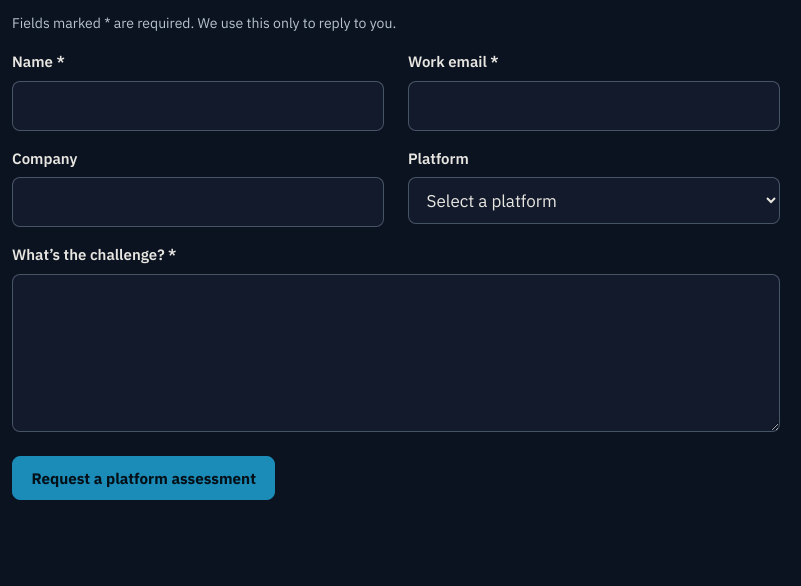
Test: Contact form › POSTs JSON to the configured endpoint and shows success
Type "Dana Ruiz" into the field labelled "Name *" at [198, 106], box [12, 81, 384, 131]
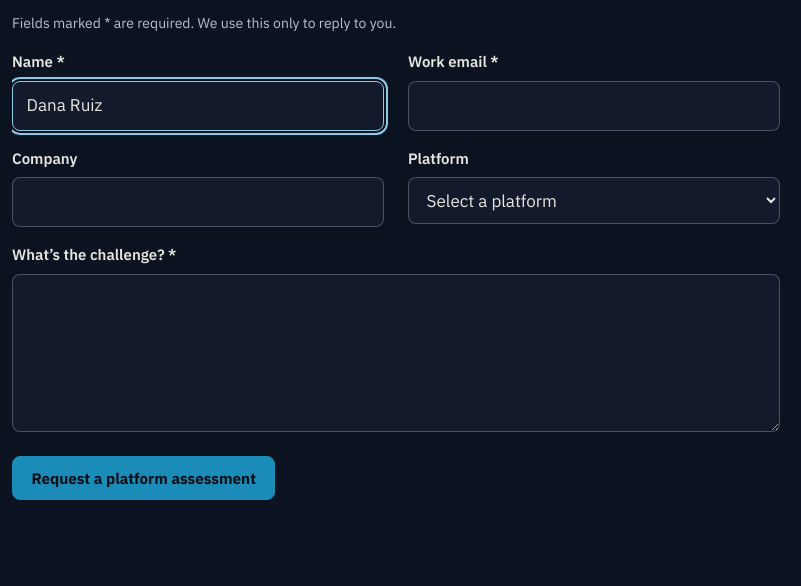
Type "dana@example.com" into the field labelled "Work email *" at [594, 106], box [408, 81, 780, 131]
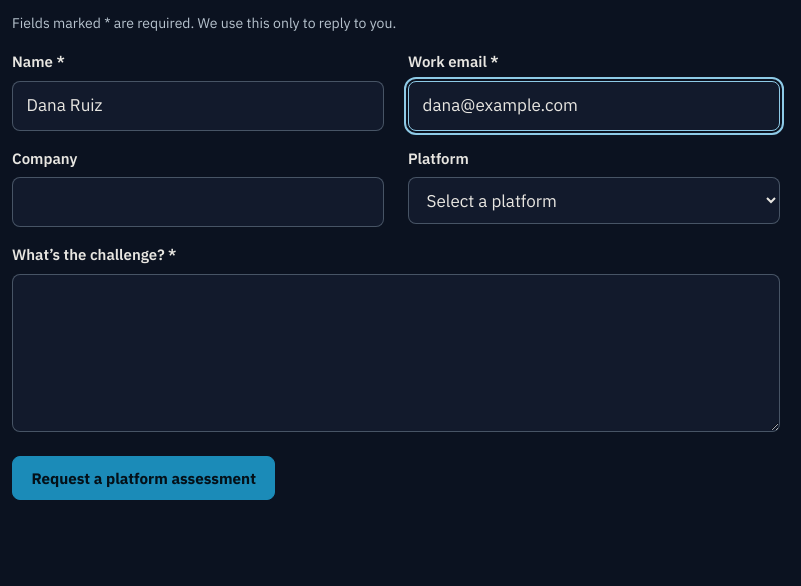
Type "Acme Health" into the field labelled "Company" at [198, 202], box [12, 177, 384, 227]
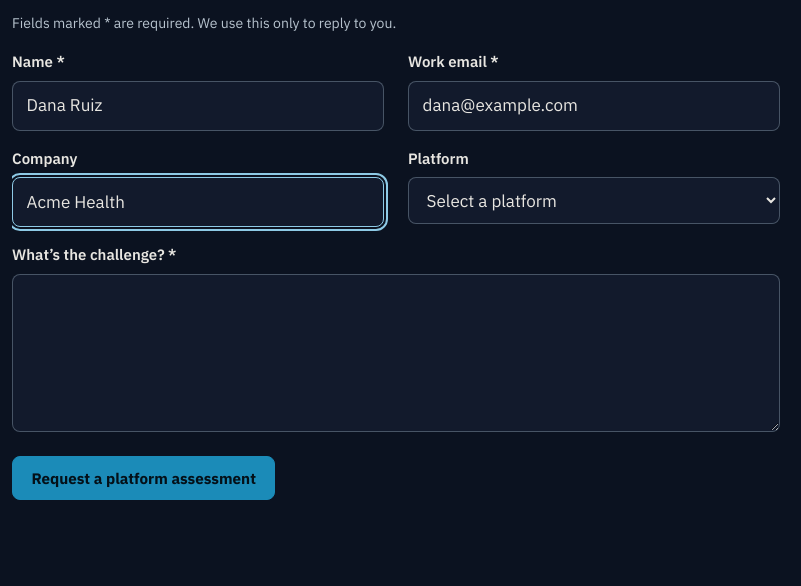
Select "Amazon Connect" in the dropdown labelled "Platform" at [594, 200], box [408, 177, 780, 224]
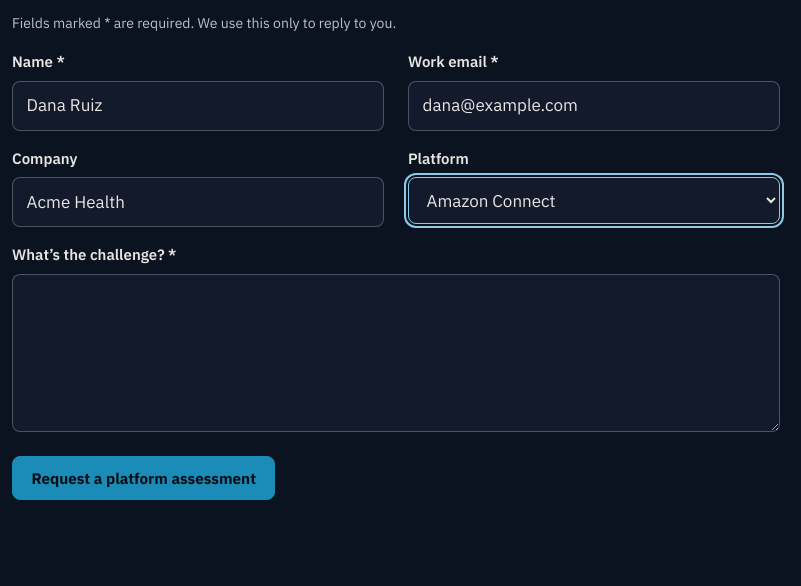
Type "Cutover in March & IVR rework" into the text box labelled "What’s the challenge? *" at [396, 353], box [12, 274, 780, 432]
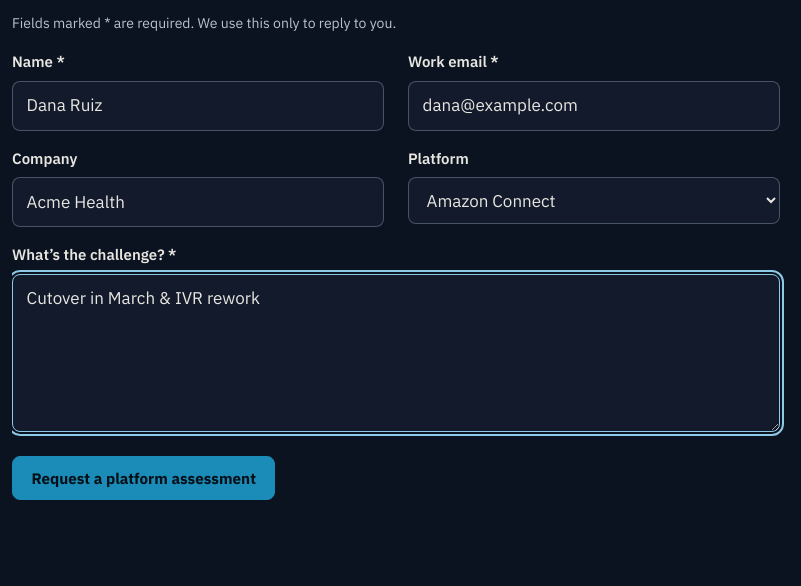
Click the button "Request a platform assessment" at [144, 478], box [12, 456, 275, 500]
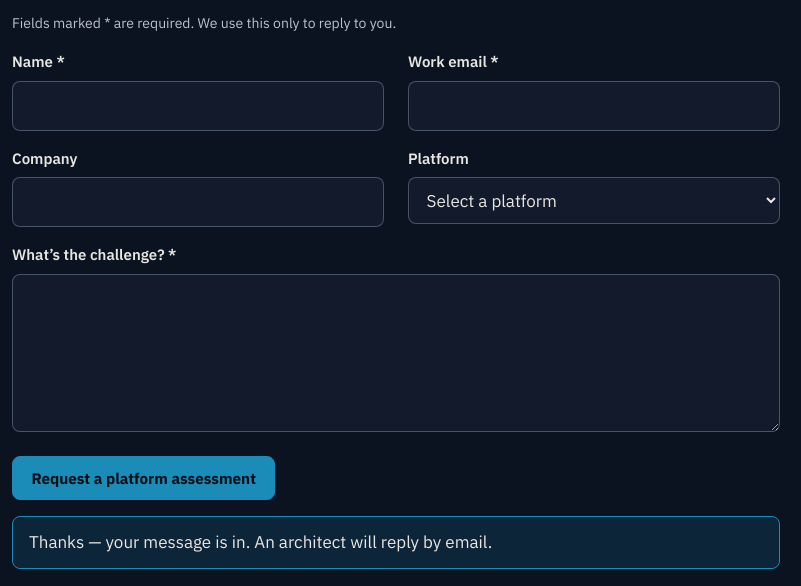
expect the message shows "your message is in": met, box [29, 531, 492, 553]
